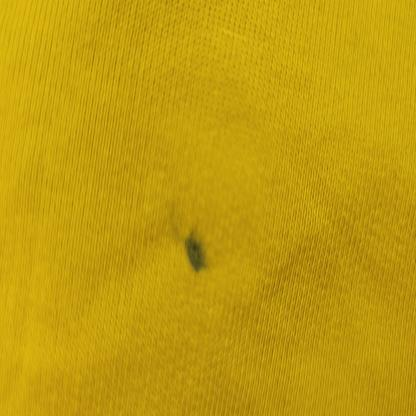spot: (178, 218, 214, 286)
